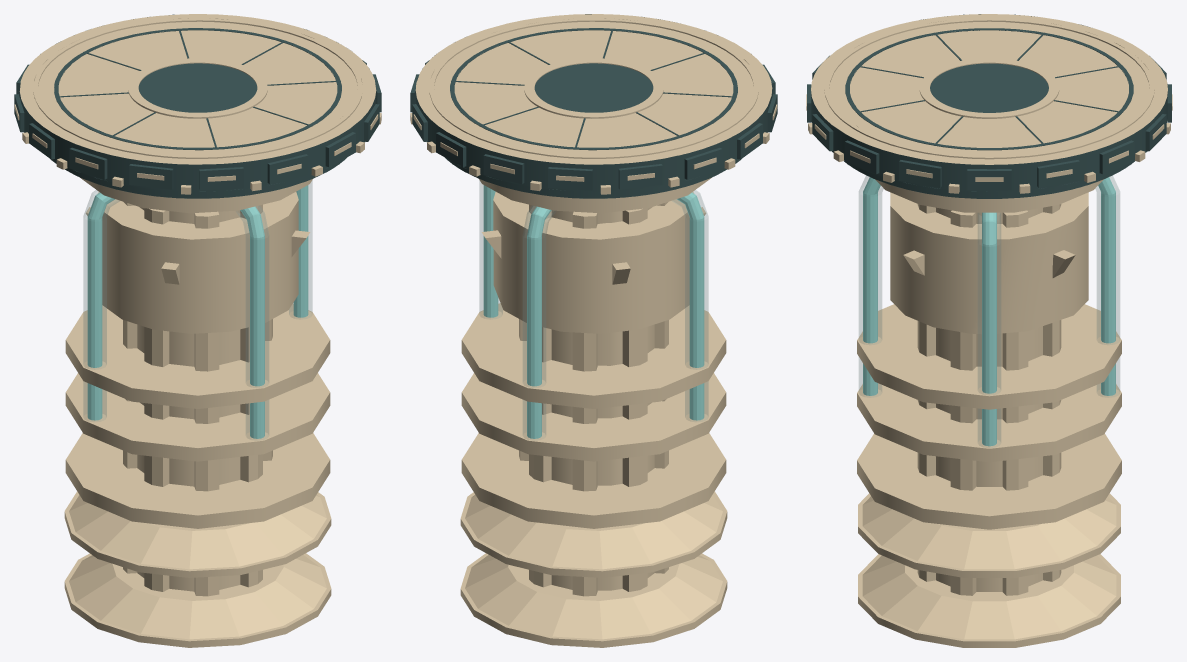
Rendered from Platform_Pillar.glb.
3 views of the same model, side by side, from view 1: azimuth 30°, elevation 25°; view 2: azimuth 150°, elevation 25°; view 3: azimuth 270°, elevation 25° (orthographic).
Visible parts, largest first — view 1: Platform_Pillar; view 2: Platform_Pillar; view 3: Platform_Pillar.
Boxes of the visible parts, <box> form: Platform_Pillar: <box>14,14,381,647</box>; Platform_Pillar: <box>410,14,777,647</box>; Platform_Pillar: <box>806,14,1172,647</box>.
Size of the model in its own units: 12.32 by 18.71 by 12.32.
